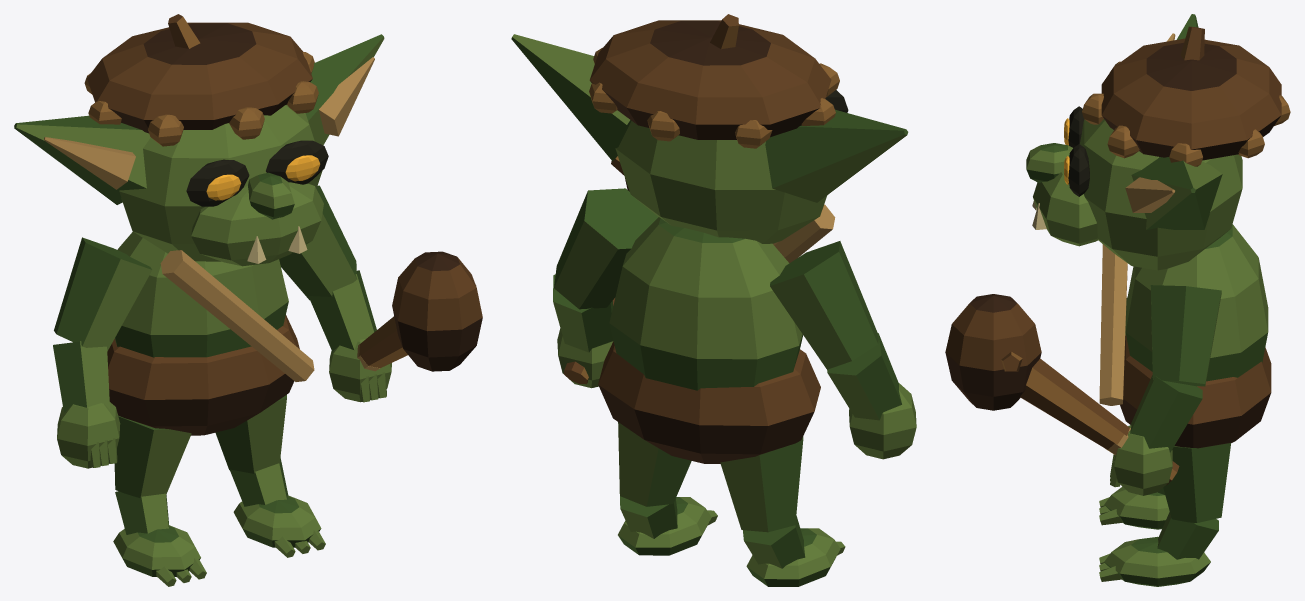
File: Bramblekin.fbx
The picture shows the model from 3 angles, left to right: view 1: azimuth 30°, elevation 25°; view 2: azimuth 150°, elevation 25°; view 3: azimuth 270°, elevation 25°; orthographic projection. The views are drawn at different scales.
Parts seen in each view (by area): view 1: Head, Body, Arm.R, Arm.L, Leg.L, Foot.L, Foot.R, Leg.R, Shin.L, Shin.R; view 2: Head, Body, Arm.L, Arm.R, Leg.L, Leg.R, Foot.L, Foot.R, Shin.L, Shin.R; view 3: Head, Arm.R, Body, Leg.R, Foot.R, Foot.L, Shin.R.
Part boxes in pixels (x1,y1,x2,y2): Head: [14, 14, 384, 266]; Body: [107, 232, 314, 435]; Arm.R: [279, 185, 482, 402]; Arm.L: [53, 237, 152, 468]; Leg.L: [114, 415, 191, 498]; Foot.L: [113, 525, 206, 586]; Foot.R: [233, 495, 325, 557]; Leg.R: [215, 395, 286, 473]; Shin.L: [115, 491, 168, 534]; Shin.R: [230, 457, 288, 506]; Head: [511, 14, 908, 243]; Body: [598, 204, 835, 463]; Arm.L: [770, 241, 916, 459]; Arm.R: [553, 156, 658, 388]; Leg.L: [720, 436, 803, 532]; Leg.R: [618, 422, 691, 506]; Foot.L: [746, 528, 845, 586]; Foot.R: [618, 497, 717, 555]; Shin.L: [743, 515, 805, 568]; Shin.R: [619, 493, 677, 538]; Head: [1026, 14, 1290, 270]; Arm.R: [945, 285, 1221, 495]; Body: [1099, 224, 1271, 448]; Leg.R: [1163, 443, 1230, 522]; Foot.R: [1099, 536, 1210, 586]; Foot.L: [1099, 486, 1169, 529]; Shin.R: [1157, 512, 1218, 559].
Bounding box in the file's own units: 117 × 160 × 96.76.
